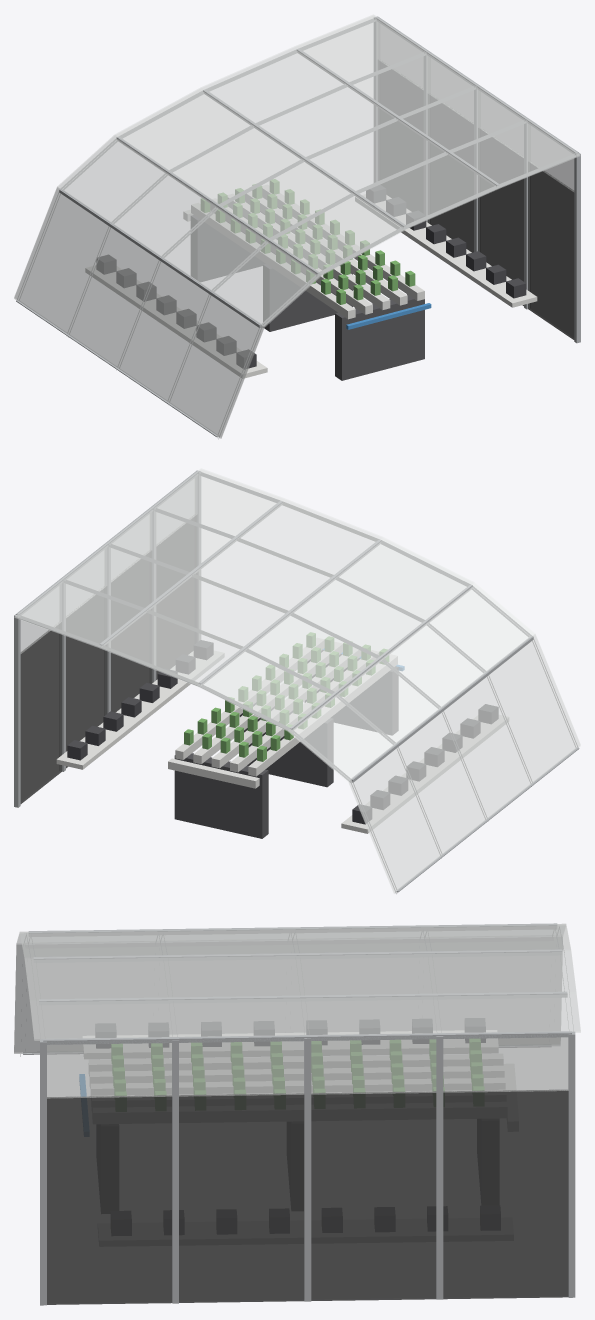
The model's file is rares_low_cost_hydroponics.glb.
3 renders of one model, top to bottom at view 1: azimuth 30°, elevation 25°; view 2: azimuth 150°, elevation 25°; view 3: azimuth 270°, elevation 25°, orthographic. The views are drawn at different scales.
Parts seen in each view (by area): view 1: Poly_Canopy, East_Black_Net, East_Poly_Valance, NFT_Stand_0, NFT_Stand_1, NFT_Stand_2, Side_Bench_W, Side_Bench_E, NFT_Pipe_0, Curved_Rib_0, Curved_Rib_4, Curved_Rib_3 (+18 smaller); view 2: Poly_Canopy, East_Black_Net, East_Poly_Valance, NFT_Stand_2, NFT_Stand_1, NFT_Stand_0, Side_Bench_E, Side_Bench_W, NFT_Pipe_0, Curved_Rib_4, Curved_Rib_1, Curved_Rib_0 (+18 smaller); view 3: East_Black_Net, Poly_Canopy, East_Poly_Valance, Side_Bench_W, Purlin_5, Purlin_3, Purlin_2, Purlin_4, NFT_Pipe_0, NFT_Pipe_1, NFT_Pipe_2, Purlin_1 (+5 smaller).
Part boxes in pixels (x1,y1,x2,y2): Poly_Canopy: (14,14,580,438); East_Black_Net: (378,60,574,339); East_Poly_Valance: (379,24,574,191); NFT_Stand_0: (335,294,424,380); NFT_Stand_1: (263,248,352,331); NFT_Stand_2: (191,197,279,281); Side_Bench_W: (85,266,267,378); Side_Bench_E: (355,194,537,307); NFT_Pipe_0: (191,203,355,319); Curved_Rib_0: (217,154,575,439); Curved_Rib_4: (17,18,375,299); Curved_Rib_3: (67,52,425,337); Poly_Canopy: (14,468,580,893); East_Black_Net: (20,515,196,803); East_Poly_Valance: (20,478,196,653); NFT_Stand_2: (174,753,268,838); NFT_Stand_1: (239,702,333,787); NFT_Stand_0: (305,650,398,735); Side_Bench_E: (56,651,224,769); Side_Bench_W: (341,715,508,833); NFT_Pipe_0: (248,654,397,776); Curved_Rib_4: (18,616,397,893); Curved_Rib_1: (154,508,532,783); Curved_Rib_0: (199,472,578,747); East_Black_Net: (47,1090,568,1304); Poly_Canopy: (14,923,580,1053); East_Poly_Valance: (47,1034,568,1098); Side_Bench_W: (83,1030,498,1058); Purlin_5: (43,1031,571,1044); Purlin_3: (33,949,562,962); Purlin_2: (28,923,557,936); Purlin_4: (39,991,567,1004); NFT_Pipe_0: (89,1054,503,1075); NFT_Pipe_1: (90,1066,504,1087); NFT_Pipe_2: (91,1078,505,1095); Purlin_1: (25,936,553,948).
Bounding box in the file's own units: 5.41 × 2.6 × 4.98.
